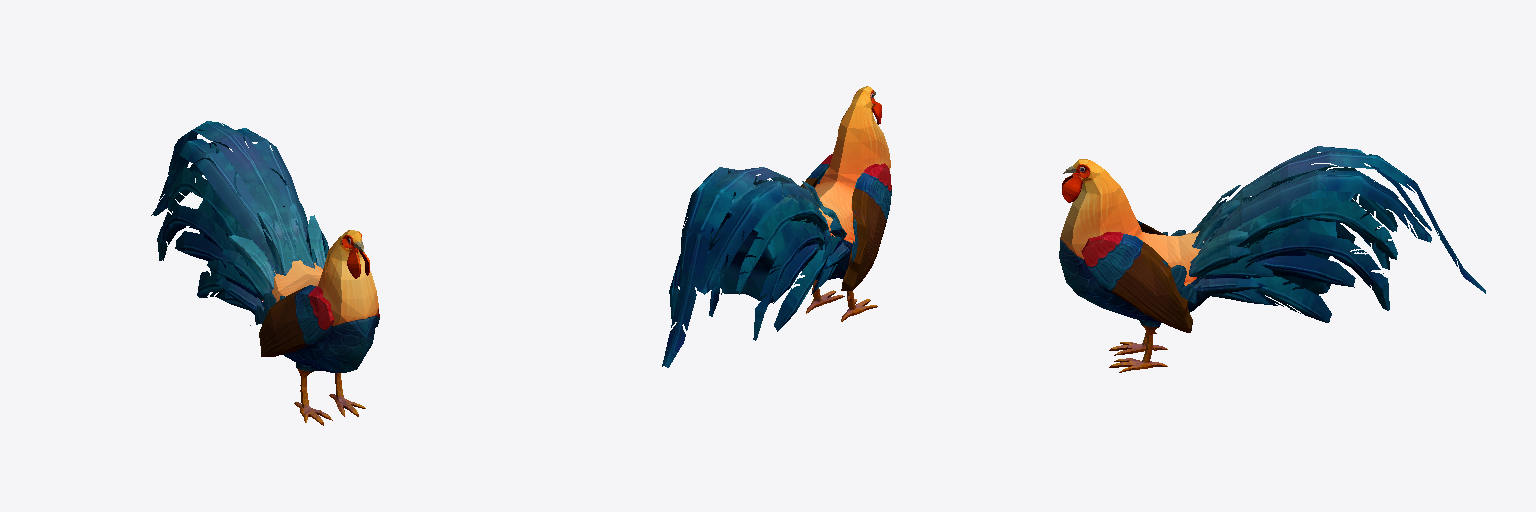
3 renders of one model, left to right at view 1: azimuth 30°, elevation 25°; view 2: azimuth 150°, elevation 25°; view 3: azimuth 270°, elevation 25°, orthographic.
Visible parts, largest first — view 1: obj1.067, obj1.065, obj1, obj1.003, obj1.053, obj1.079, obj1.078, obj1.087, obj1.081, obj1.086, obj1.085, obj1.084 (+3 smaller); view 2: obj1.065, obj1.067, obj1, obj1.078, obj1.053, obj1.005, obj1.003, obj1.079, obj1.055, obj1.080, obj1.004, obj1.081; view 3: obj1.067, obj1.017, obj1, obj1.066, obj1.003, obj1.068, obj1.065, obj1.070, obj1.004, obj1.069, obj1.019, obj1.073 (+6 smaller).
Part boxes in pixels (left/top/right/bottom): obj1.067: left=168, top=128, right=309, bottom=268; obj1.065: left=151, top=121, right=299, bottom=261; obj1: left=318, top=230, right=378, bottom=337; obj1.003: left=263, top=260, right=376, bottom=372; obj1.053: left=259, top=294, right=329, bottom=356; obj1.079: left=157, top=203, right=247, bottom=266; obj1.078: left=168, top=166, right=247, bottom=238; obj1.087: left=257, top=211, right=291, bottom=275; obj1.081: left=175, top=231, right=247, bottom=277; obj1.086: left=228, top=235, right=275, bottom=290; obj1.085: left=222, top=249, right=271, bottom=300; obj1.084: left=214, top=278, right=263, bottom=314; obj1.065: left=662, top=167, right=795, bottom=367; obj1.067: left=680, top=167, right=818, bottom=294; obj1: left=824, top=86, right=890, bottom=183; obj1.078: left=736, top=196, right=830, bottom=294; obj1.053: left=852, top=166, right=891, bottom=290; obj1.005: left=709, top=212, right=775, bottom=300; obj1.003: left=801, top=176, right=855, bottom=279; obj1.079: left=753, top=222, right=824, bottom=340; obj1.055: left=841, top=163, right=886, bottom=290; obj1.080: left=774, top=244, right=825, bottom=331; obj1.004: left=711, top=185, right=830, bottom=303; obj1.081: left=773, top=232, right=820, bottom=303; obj1.067: left=1204, top=146, right=1431, bottom=242; obj1.017: left=1082, top=239, right=1189, bottom=332; obj1: left=1059, top=159, right=1141, bottom=260; obj1.066: left=1218, top=197, right=1397, bottom=259; obj1.003: left=1059, top=231, right=1209, bottom=322; obj1.068: left=1227, top=229, right=1389, bottom=310; obj1.065: left=1216, top=151, right=1485, bottom=293; obj1.070: left=1243, top=251, right=1355, bottom=287; obj1.004: left=1204, top=171, right=1368, bottom=294; obj1.069: left=1246, top=276, right=1331, bottom=322; obj1.019: left=1085, top=232, right=1192, bottom=332; obj1.073: left=1189, top=275, right=1266, bottom=301.
Size of the model in its own units: 116 by 218 by 422.
Materials: 1 (1 with a texture image).